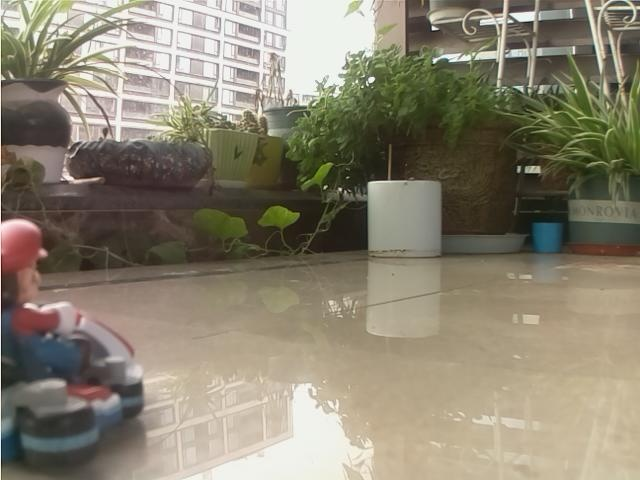mario: (1, 213, 138, 453)
